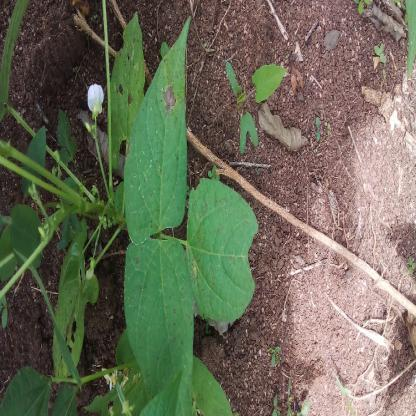Beans_Angular_LeafSpot: (30, 215, 141, 311), (316, 24, 378, 58)
